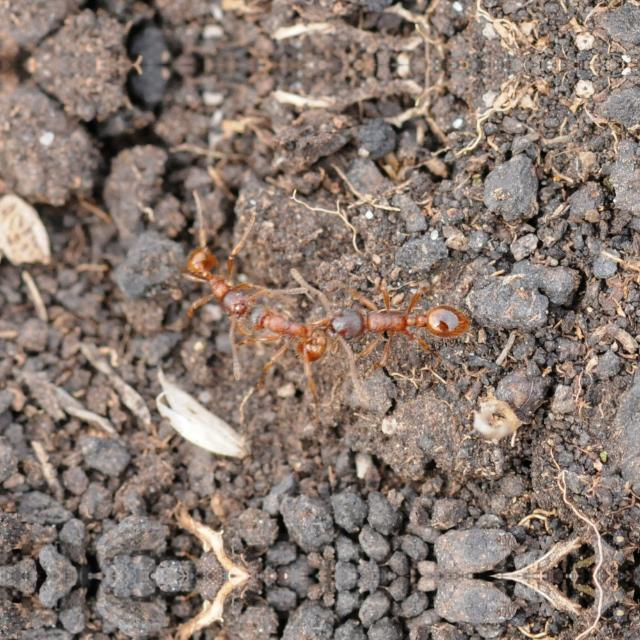Myrmica: (316, 282, 486, 363), (169, 234, 271, 324), (239, 296, 331, 370)
